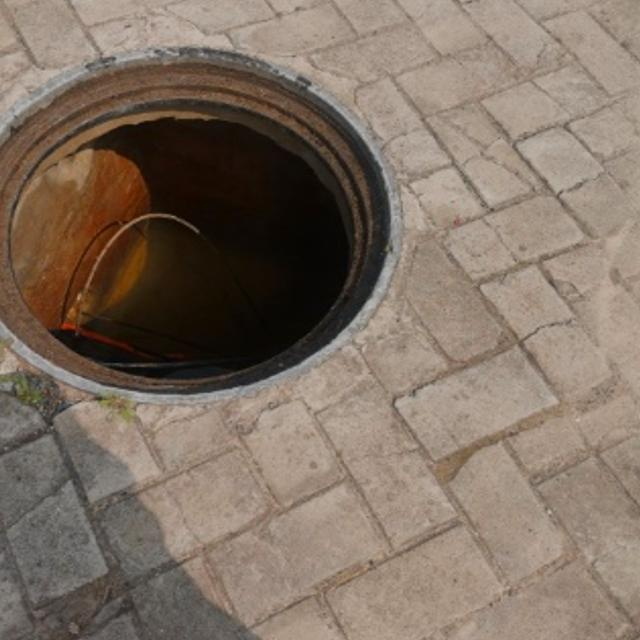lose: (0, 49, 407, 404)
